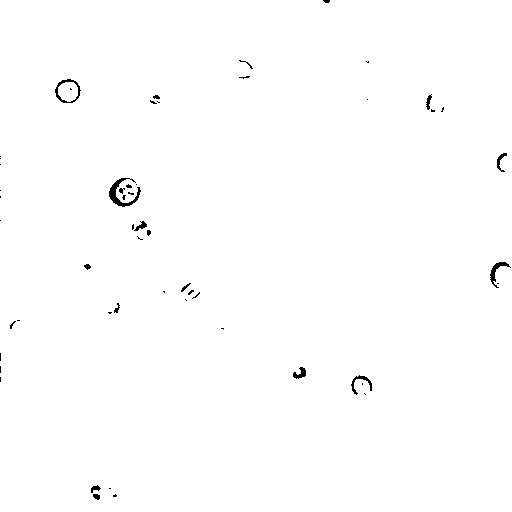micro-algae: (95, 176, 158, 242), (352, 85, 386, 115), (107, 177, 141, 207), (53, 78, 84, 105), (154, 279, 184, 306), (71, 251, 99, 279), (427, 84, 449, 119), (488, 259, 512, 290), (97, 481, 124, 505), (228, 59, 256, 81), (351, 374, 375, 399), (354, 56, 381, 78), (129, 219, 154, 240), (181, 279, 206, 300), (310, 0, 343, 15), (101, 296, 123, 317), (0, 353, 15, 381), (153, 0, 175, 19), (10, 317, 28, 336), (497, 150, 511, 173), (291, 363, 306, 379), (90, 484, 103, 501)
